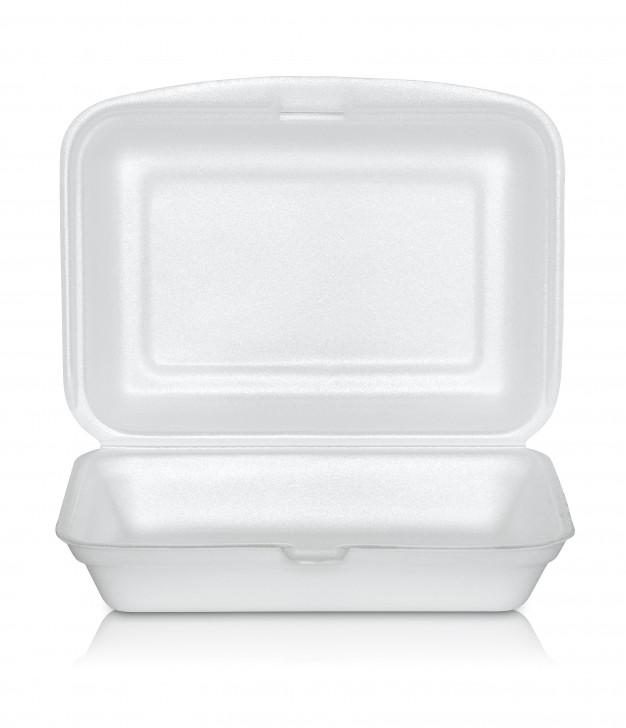PS: (16, 16, 626, 728)
